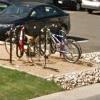Bicycle: (3, 19, 88, 75)
